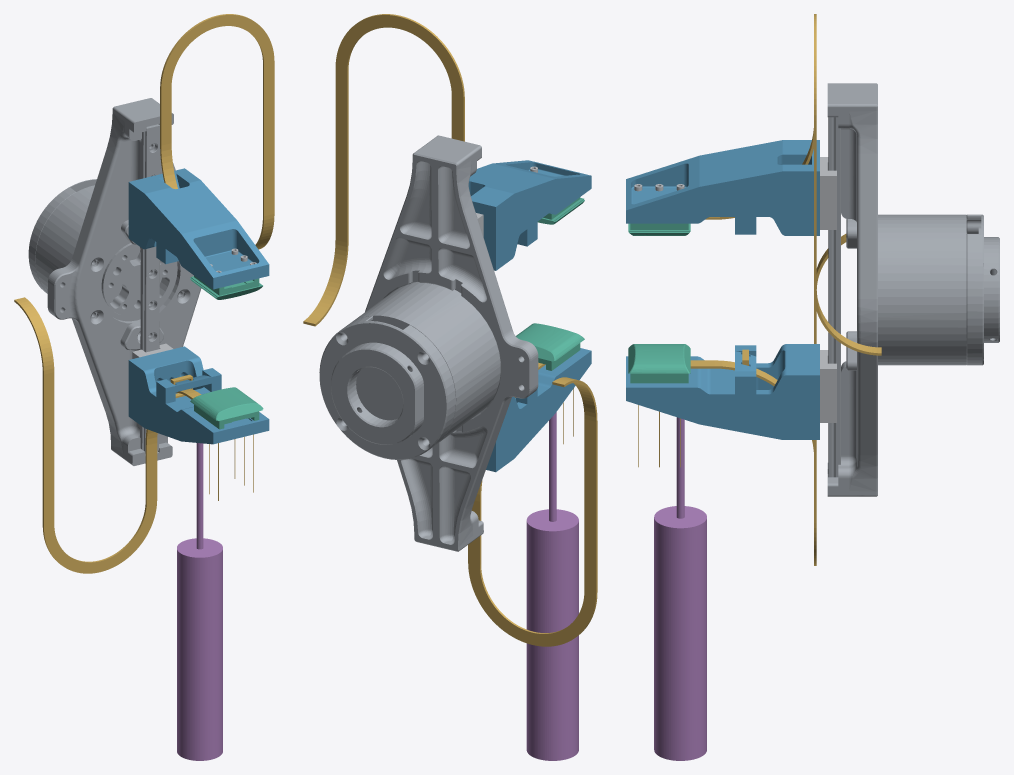
File: sensor_screw_access.glb
3 renders of one model, left to right at view 1: azimuth 30°, elevation 25°; view 2: azimuth 150°, elevation 25°; view 3: azimuth 270°, elevation 25°, orthographic. The views are drawn at different scales.
Parts seen in each view (by area): view 1: original_actuator_and_transmission, S3_driver_reference_with_assumed_handle, replacement_finger_2, replacement_finger_1, service_loop_envelope_1, service_loop_envelope_2, M2324_1, M2324_2, moving_harness_envelope_2; view 2: original_actuator_and_transmission, S3_driver_reference_with_assumed_handle, replacement_finger_2, service_loop_envelope_2, service_loop_envelope_1, replacement_finger_1, M2324_1; view 3: original_actuator_and_transmission, S3_driver_reference_with_assumed_handle, replacement_finger_2, replacement_finger_1, M2324_1, service_loop_envelope_2, retained_carrier_1, retained_carrier_2, M2324_2, service_loop_envelope_1, moving_harness_envelope_1.
Boxes of the visible parts, box(x1,y1,x2,y2) form: original_actuator_and_transmission: box(28, 98, 201, 465); S3_driver_reference_with_assumed_handle: box(177, 443, 222, 760); replacement_finger_2: box(128, 168, 269, 289); replacement_finger_1: box(128, 346, 269, 444); service_loop_envelope_1: box(14, 297, 157, 573); service_loop_envelope_2: box(160, 14, 274, 249); M2324_1: box(190, 387, 263, 429); M2324_2: box(190, 275, 262, 299); moving_harness_envelope_2: box(160, 143, 177, 189); original_actuator_and_transmission: box(319, 135, 538, 551); S3_driver_reference_with_assumed_handle: box(526, 412, 578, 760); replacement_finger_2: box(468, 160, 591, 270); service_loop_envelope_2: box(303, 14, 464, 326); service_loop_envelope_1: box(468, 377, 597, 646); replacement_finger_1: box(486, 348, 591, 472); M2324_1: box(516, 323, 584, 370); original_actuator_and_transmission: box(827, 83, 999, 496); S3_driver_reference_with_assumed_handle: box(654, 417, 706, 760); replacement_finger_2: box(626, 140, 819, 235); replacement_finger_1: box(626, 344, 819, 439); M2324_1: box(628, 344, 690, 383); service_loop_envelope_2: box(814, 14, 881, 355); retained_carrier_1: box(820, 350, 836, 422); retained_carrier_2: box(820, 157, 836, 229); M2324_2: box(628, 223, 690, 235); service_loop_envelope_1: box(814, 234, 846, 565); moving_harness_envelope_1: box(690, 360, 816, 458).
Size of the model in its own units: 0.1152 by 0.3215 by 0.1412.
